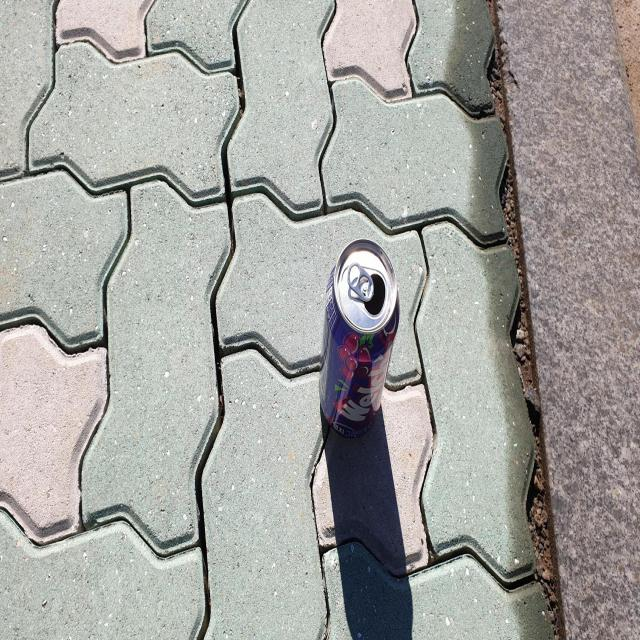can: (320, 238, 400, 438)
